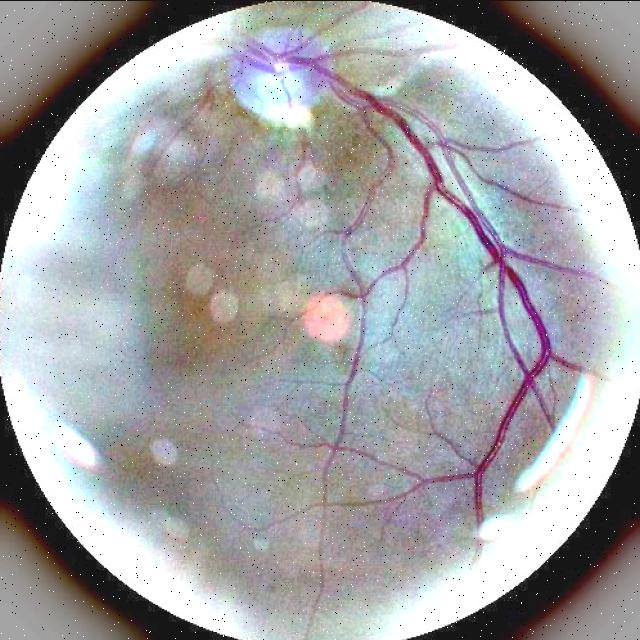Optic Disk: (233, 30, 329, 127)
